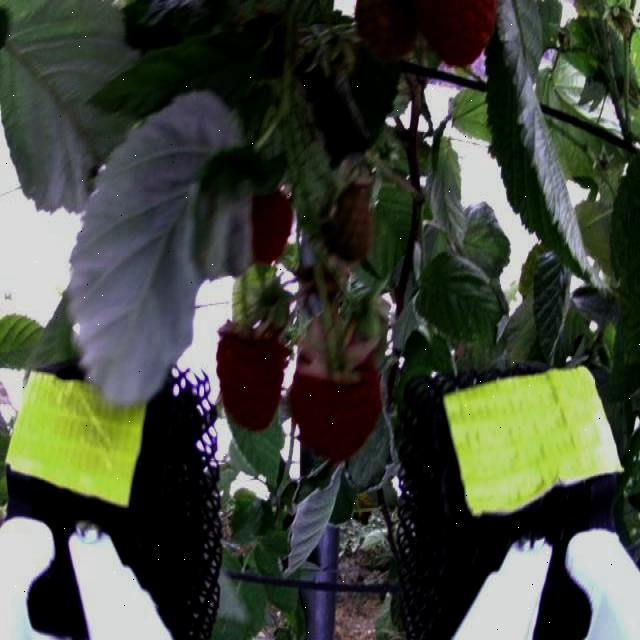Riped berries: (291, 325, 385, 457), (212, 316, 288, 429), (415, 0, 498, 72), (244, 184, 297, 266)
